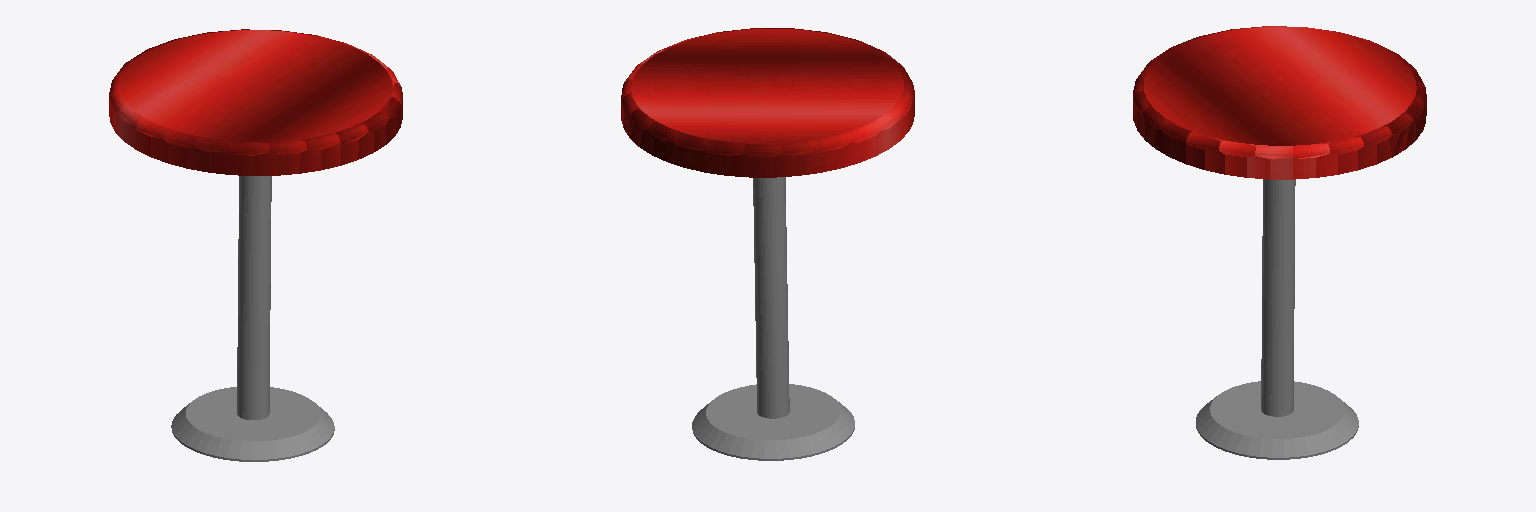
3 views of the same model, side by side, from view 1: azimuth 30°, elevation 25°; view 2: azimuth 150°, elevation 25°; view 3: azimuth 270°, elevation 25° (orthographic).
Parts seen in each view (by area): view 1: Mesh1 Group1 Model, Mesh2 Group2 Model; view 2: Mesh1 Group1 Model, Mesh2 Group2 Model; view 3: Mesh1 Group1 Model, Mesh2 Group2 Model.
Part boxes in pixels (left/top/right/bottom): Mesh1 Group1 Model: left=109, top=29, right=402, bottom=175; Mesh2 Group2 Model: left=171, top=176, right=334, bottom=461; Mesh1 Group1 Model: left=621, top=28, right=914, bottom=177; Mesh2 Group2 Model: left=692, top=177, right=854, bottom=460; Mesh1 Group1 Model: left=1133, top=26, right=1426, bottom=179; Mesh2 Group2 Model: left=1196, top=179, right=1358, bottom=459.
Bounding box in the file's own units: 0.4566 × 0.5895 × 0.4569.
2 materials, 1 textured.